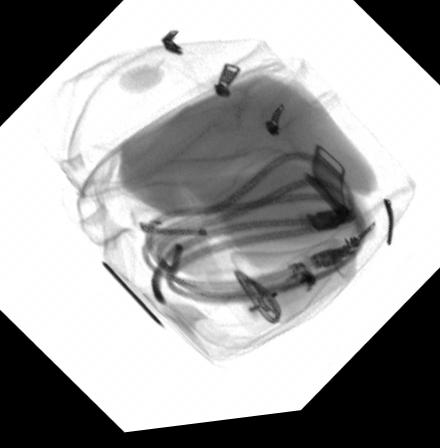Lighter: (224, 262, 326, 328)
